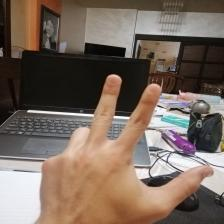three: (40, 71, 216, 214)
